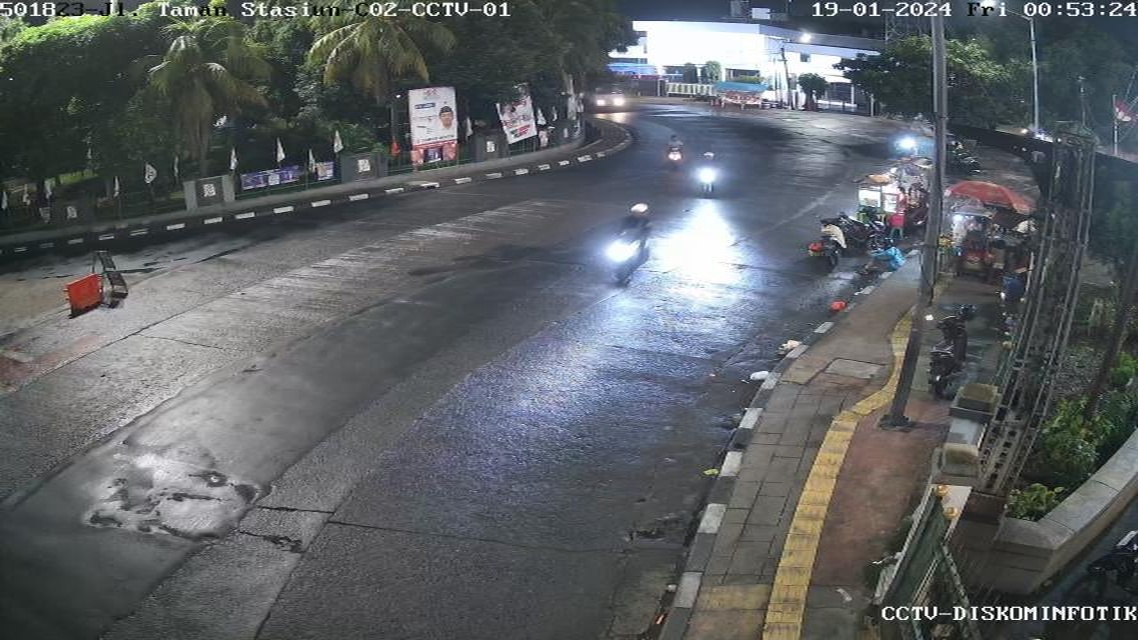Gerobak: (850, 170, 912, 237), (955, 203, 1006, 278)
